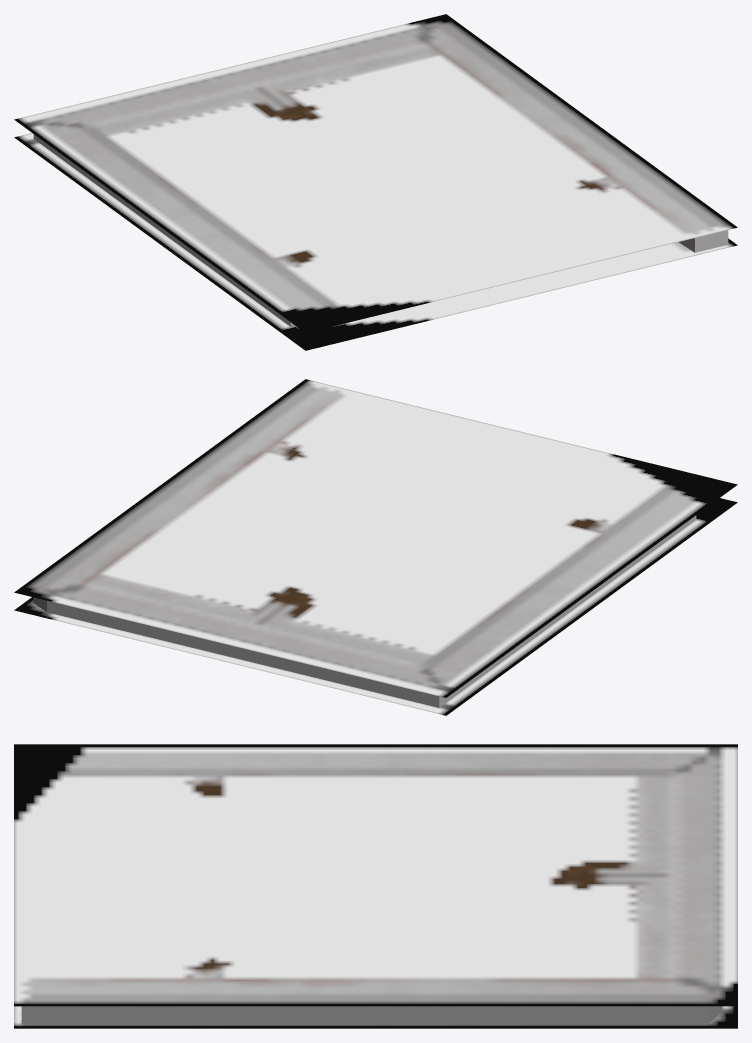
The model's file is pz_native_location_community_church_small_01_271_frame.obj.
3 renders of one model, top to bottom at view 1: azimuth 30°, elevation 25°; view 2: azimuth 150°, elevation 25°; view 3: azimuth 270°, elevation 25°, orthographic. The views are drawn at different scales.
Visible parts, largest first — view 1: pz_native_location_community_church_small_01_271_frame; view 2: pz_native_location_community_church_small_01_271_frame; view 3: pz_native_location_community_church_small_01_271_frame.
Part boxes in pixels (x1=…): pz_native_location_community_church_small_01_271_frame: x1=14, y1=14, x2=737, y2=350; pz_native_location_community_church_small_01_271_frame: x1=14, y1=379, x2=737, y2=715; pz_native_location_community_church_small_01_271_frame: x1=14, y1=744, x2=737, y2=1028.
Size of the model in its own units: 1.02 by 0.04 by 1.19.
1 material, 1 textured.
